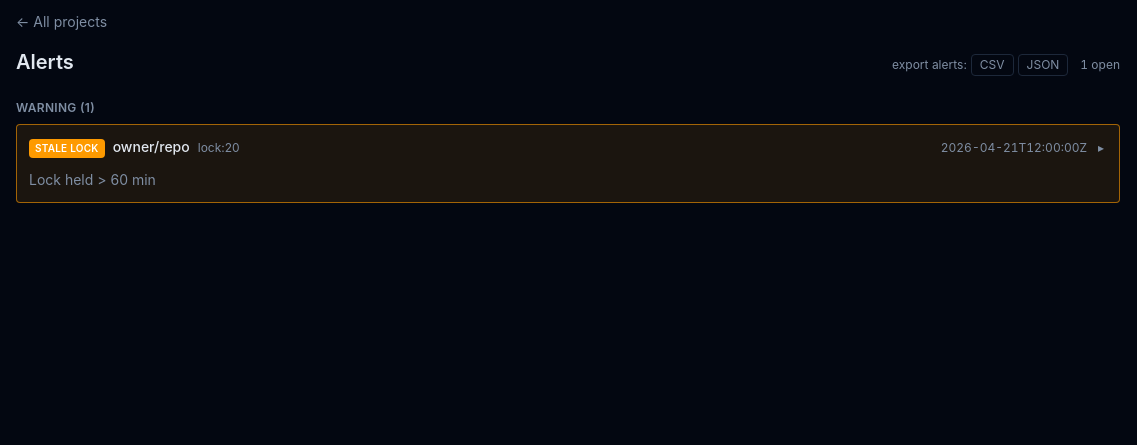
Test: Alerts page › stale_lock shows holder + Release/Steal semantic hint when lockEntry resolves
Click the button with aria-label "toggle stale_lock". click: coordinates (67, 148)
box: [29, 138, 1104, 158]
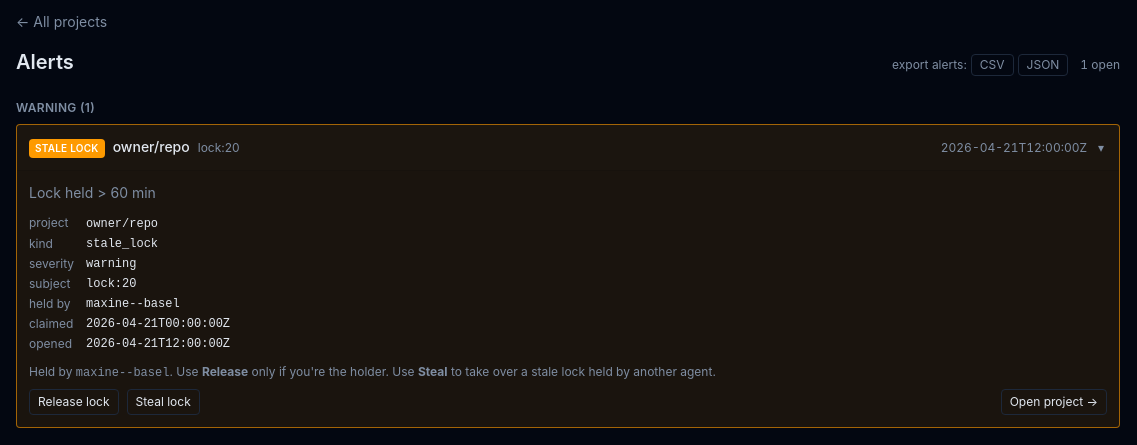
Now the text "maxine--basel" below "subject" is shown, box [86, 297, 180, 311]
Now the text "take over a stale lock held by another agent" is shown, box [448, 364, 716, 379]
